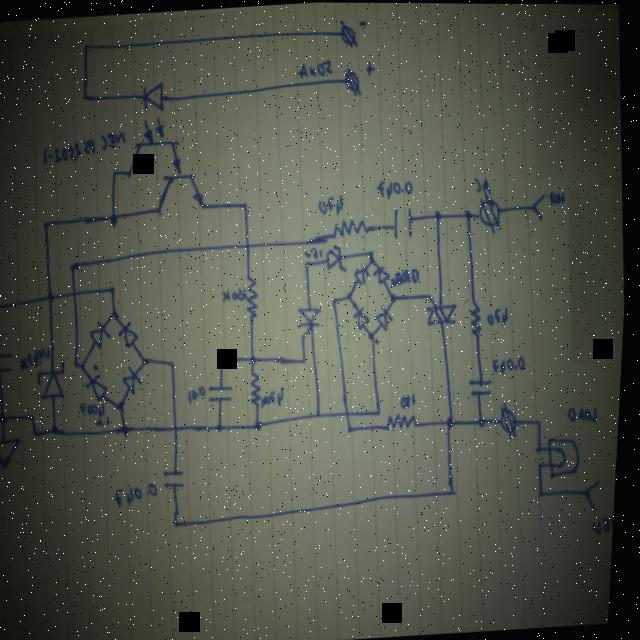capacitor: (392, 205, 416, 238), (212, 380, 238, 404), (167, 467, 190, 492), (472, 376, 498, 396), (0, 349, 19, 375)
crossover: (246, 239, 255, 251), (73, 288, 82, 298), (175, 423, 184, 432), (348, 407, 355, 417)
diode: (39, 358, 71, 398), (92, 319, 116, 348), (88, 374, 113, 401), (120, 319, 144, 346), (328, 244, 351, 272), (125, 365, 147, 394), (377, 303, 398, 330), (356, 305, 374, 328), (356, 262, 373, 285), (376, 264, 393, 283)
ground: (0, 436, 29, 468)
junction: (110, 210, 121, 227), (449, 414, 460, 429), (257, 416, 268, 431), (123, 422, 134, 437), (480, 413, 490, 427), (2, 411, 12, 425), (219, 419, 229, 432), (81, 90, 91, 102), (55, 422, 64, 435), (43, 217, 52, 230), (252, 353, 262, 364), (435, 209, 445, 220), (71, 259, 80, 271), (453, 485, 462, 496), (49, 291, 58, 302), (348, 290, 357, 301), (113, 308, 122, 319), (370, 247, 379, 256), (319, 408, 327, 418), (350, 423, 358, 433), (222, 354, 230, 364), (371, 329, 379, 339), (466, 208, 474, 218), (121, 399, 128, 410), (82, 361, 90, 370), (540, 444, 549, 452), (371, 256, 379, 265), (543, 487, 550, 497), (380, 406, 387, 416), (146, 354, 153, 364), (179, 517, 186, 527), (393, 291, 400, 301), (540, 416, 548, 424), (112, 168, 120, 176), (172, 358, 179, 367), (542, 459, 549, 468), (83, 42, 90, 51), (334, 295, 341, 304), (304, 356, 311, 364), (76, 360, 83, 368), (36, 429, 43, 437), (306, 259, 313, 267), (243, 200, 250, 208), (113, 284, 119, 292), (34, 414, 40, 420), (0, 302, 3, 311)
resistor: (334, 216, 373, 239), (247, 275, 264, 318), (390, 410, 422, 431), (471, 299, 487, 337), (252, 370, 267, 407)
terminal: (338, 17, 359, 47), (588, 478, 608, 507), (344, 67, 363, 96), (532, 192, 549, 219)
text: (44, 130, 130, 164), (119, 481, 163, 507), (23, 346, 55, 370), (378, 178, 416, 198), (297, 58, 335, 77), (495, 354, 530, 374), (392, 266, 424, 287), (320, 192, 346, 216), (571, 405, 603, 422), (265, 385, 289, 406), (490, 305, 513, 326), (83, 400, 111, 417), (597, 514, 619, 534), (225, 286, 250, 303), (192, 384, 211, 403), (476, 175, 494, 193), (403, 391, 421, 408), (306, 246, 326, 259), (550, 189, 567, 204), (100, 415, 115, 426)
thyristor: (298, 304, 328, 341)
transistor: (158, 172, 209, 215)
